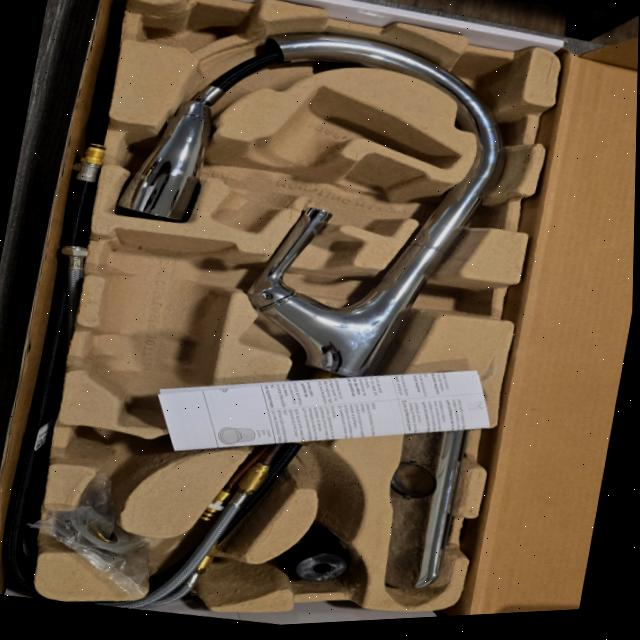1o: (118, 32, 502, 608)
2m: (212, 85, 459, 233)
3m: (85, 229, 230, 428)
4o: (385, 391, 470, 588)
5: (272, 524, 352, 582)
6: (27, 491, 154, 599)
7m: (65, 425, 219, 494)
8: (156, 368, 492, 451)
